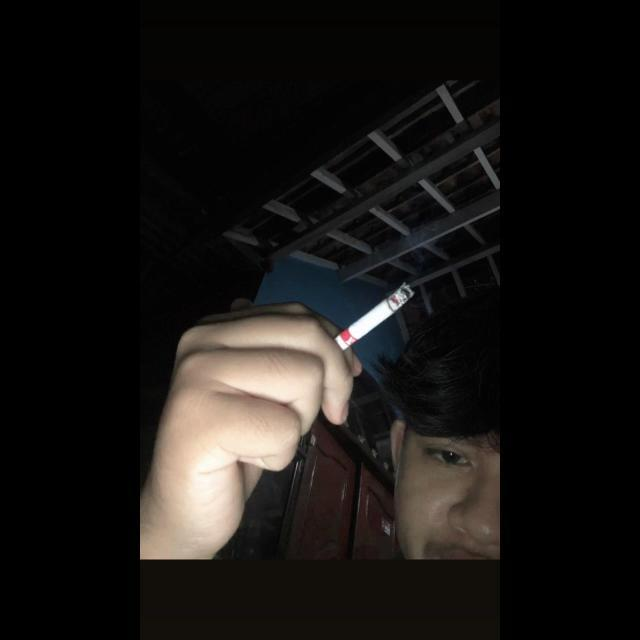rokok: (332, 282, 416, 348)
